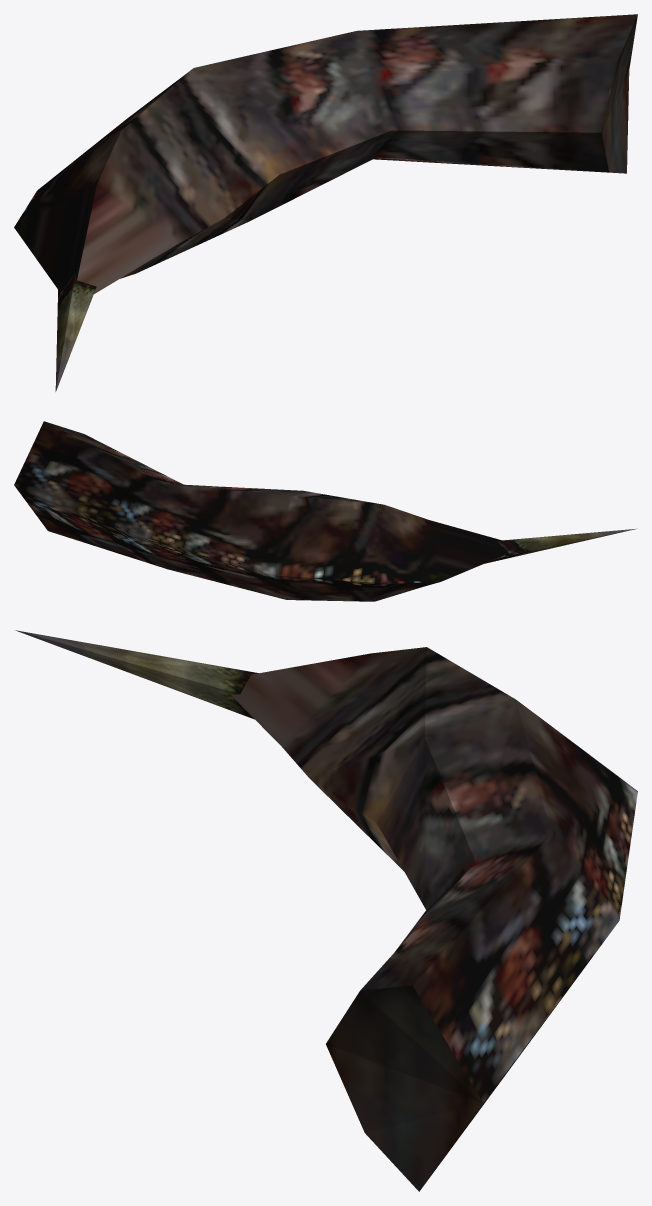
File: ITAT.glb
The picture shows the model from 3 angles, top to bottom: view 1: azimuth 30°, elevation 25°; view 2: azimuth 150°, elevation 25°; view 3: azimuth 270°, elevation 25°; orthographic projection. The views are drawn at different scales.
Parts seen in each view (by area): view 1: zengin; view 2: zengin; view 3: zengin.
Part boxes in pixels (bbox=[...]): zengin: bbox=[14, 14, 637, 391]; zengin: bbox=[14, 421, 636, 601]; zengin: bbox=[15, 630, 637, 1191].
Bounding box in the file's own units: 0.6935 × 0.1555 × 0.3751.
Materials: 1 (1 with a texture image).
